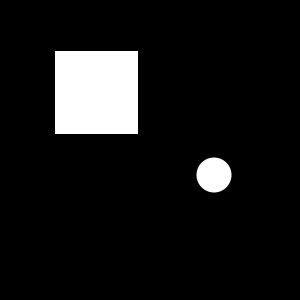circle: (55, 51, 138, 134)
rectangle: (196, 158, 232, 193)
